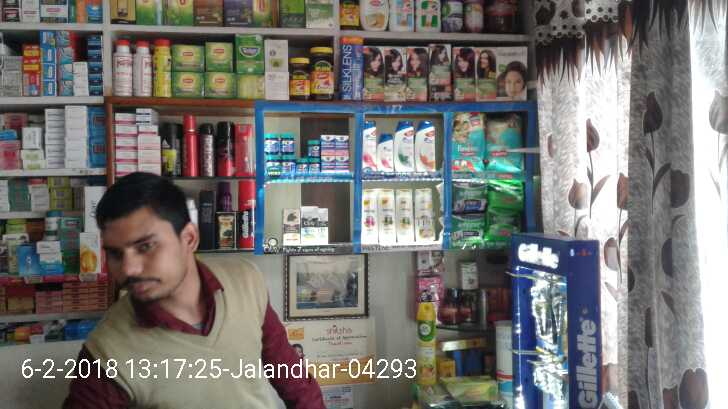vicks: (265, 132, 350, 180)
